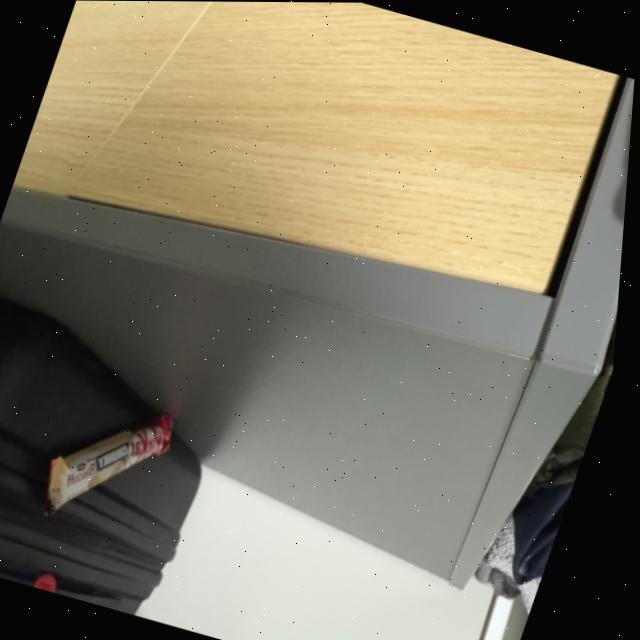chocolate: (39, 379, 194, 538)
